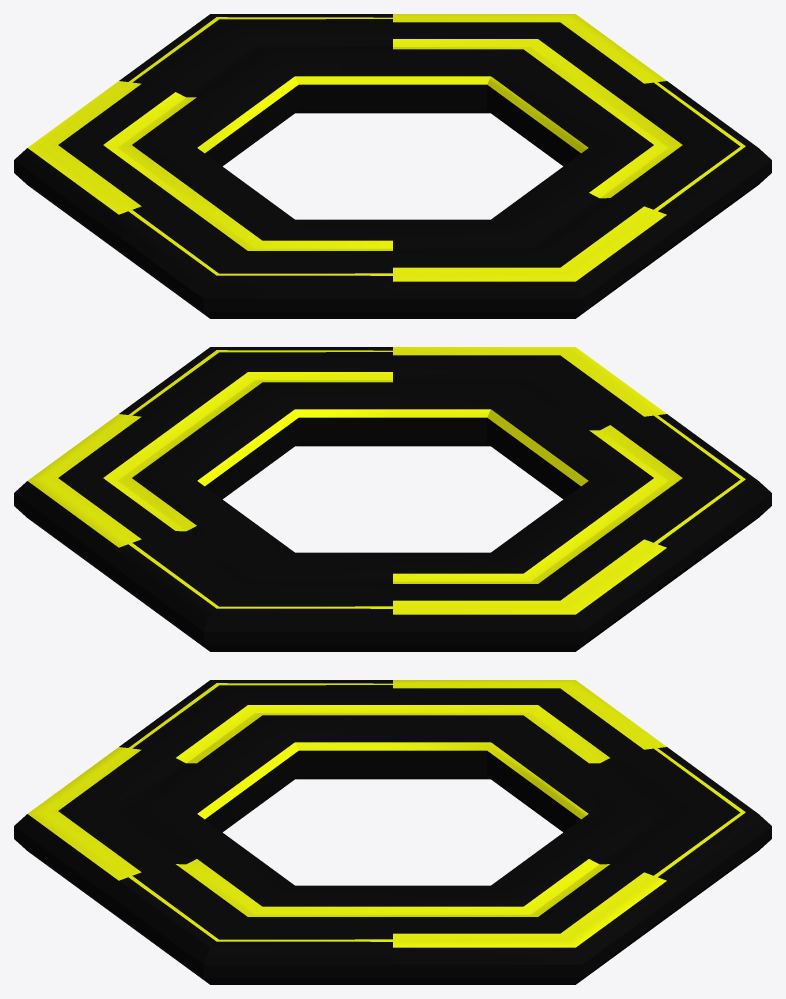
File: Coin.fbx
3 views of the same model, one above another, from view 1: azimuth 30°, elevation 25°; view 2: azimuth 150°, elevation 25°; view 3: azimuth 270°, elevation 25° (orthographic).
Visible parts, largest first — view 1: Tube004; view 2: Tube004; view 3: Tube004.
Boxes of the visible parts, x1,y1,x2,y2 form: Tube004: (14,14,771,318); Tube004: (14,347,771,651); Tube004: (14,680,771,984).
Bounding box in the file's own units: 59.53 × 4.29 × 68.74.
